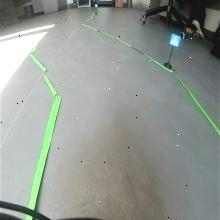crosswalk: (169, 33, 181, 47)
